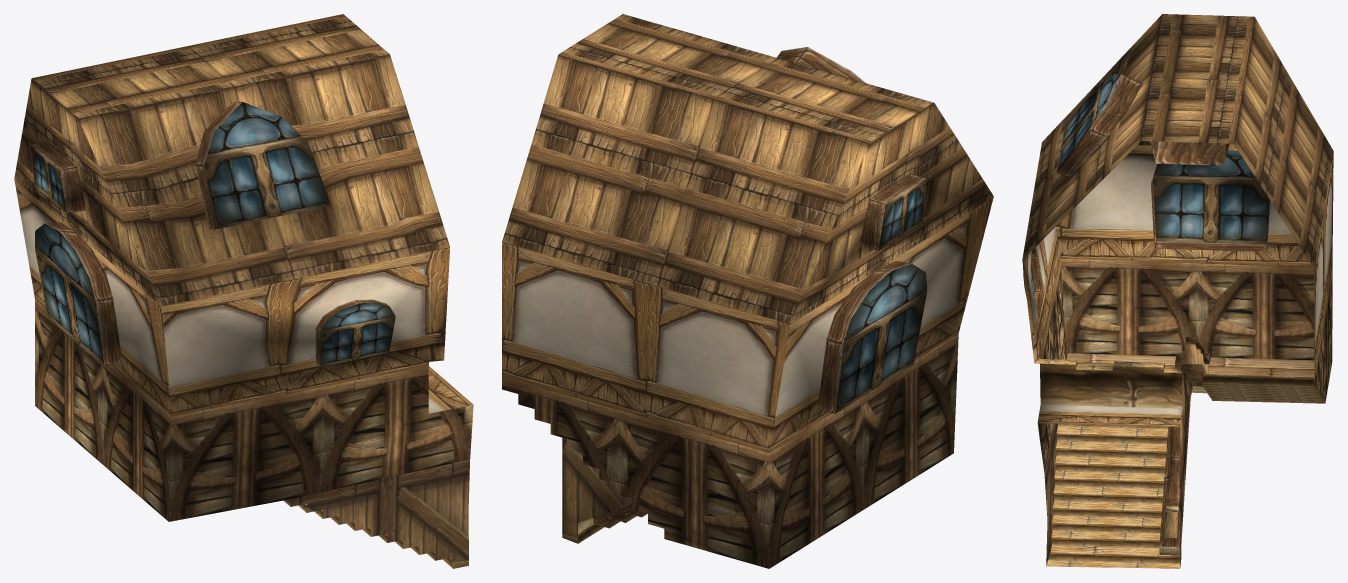
The model's file is stormwind_244.fbx.
3 views of the same model, side by side, from view 1: azimuth 30°, elevation 25°; view 2: azimuth 150°, elevation 25°; view 3: azimuth 270°, elevation 25° (orthographic). The views are drawn at different scales.
Parts seen in each view (by area): view 1: stormwind_244_55, stormwind_244_49, stormwind_244_48, stormwind_244_84, stormwind_244_56, stormwind_244_53; view 2: stormwind_244_55, stormwind_244_48, stormwind_244_49, stormwind_244_84, stormwind_244_53, stormwind_244_56; view 3: stormwind_244_53, stormwind_244_55, stormwind_244_49, stormwind_244_48, stormwind_244_84, stormwind_244_51, stormwind_244_56, stormwind_244_54.
Part boxes in pixels (x1=…): stormwind_244_55: x1=14, y1=14, x2=449, y2=306; stormwind_244_49: x1=35, y1=299, x2=473, y2=521; stormwind_244_48: x1=14, y1=179, x2=472, y2=416; stormwind_244_84: x1=30, y1=101, x2=395, y2=367; stormwind_244_56: x1=290, y1=459, x2=469, y2=568; stormwind_244_53: x1=31, y1=101, x2=452, y2=568; stormwind_244_55: x1=502, y1=14, x2=993, y2=323; stormwind_244_48: x1=502, y1=196, x2=993, y2=452; stormwind_244_49: x1=502, y1=333, x2=958, y2=568; stormwind_244_84: x1=835, y1=178, x2=927, y2=413; stormwind_244_53: x1=578, y1=47, x2=925, y2=543; stormwind_244_56: x1=562, y1=437, x2=631, y2=543; stormwind_244_53: x1=1023, y1=73, x2=1325, y2=568; stormwind_244_55: x1=1022, y1=14, x2=1333, y2=268; stormwind_244_49: x1=1037, y1=258, x2=1332, y2=472; stormwind_244_48: x1=1022, y1=145, x2=1333, y2=427; stormwind_244_84: x1=1030, y1=73, x2=1270, y2=297; stormwind_244_51: x1=1066, y1=353, x2=1314, y2=376; stormwind_244_56: x1=1044, y1=365, x2=1192, y2=566; stormwind_244_54: x1=1159, y1=344, x2=1208, y2=555.
Size of the model in its own units: 11.33 by 15.25 by 10.37.
